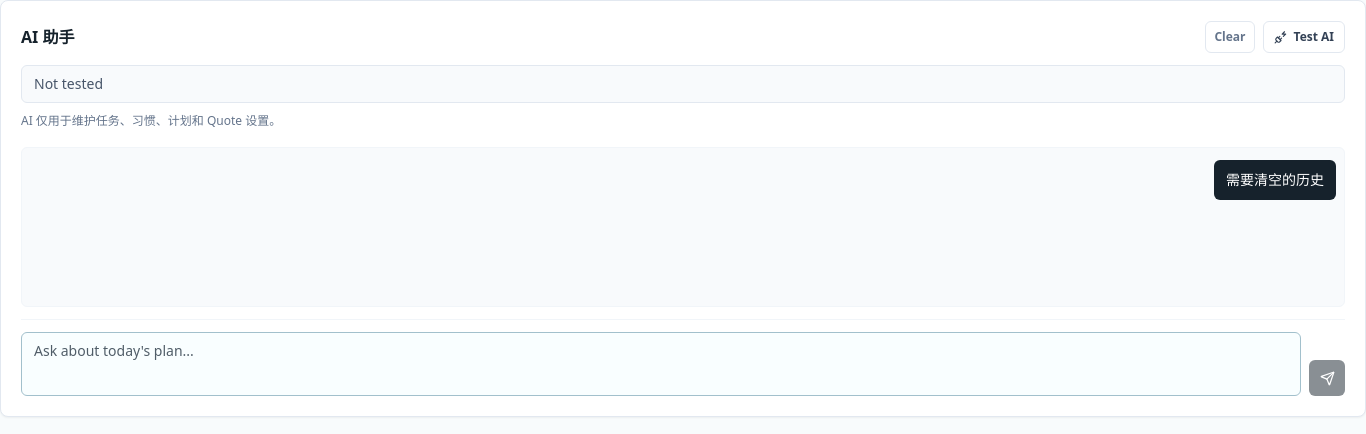
it: AiAssistantPanel › clears saved chat history from the assistant panel
Expected: the text "需要清空的历史" is shown, x1=1226 y1=168 x2=1324 y2=192
Click the button with aria-label "Clear chat history": (1230, 37) x1=1206 y1=21 x2=1255 y2=53
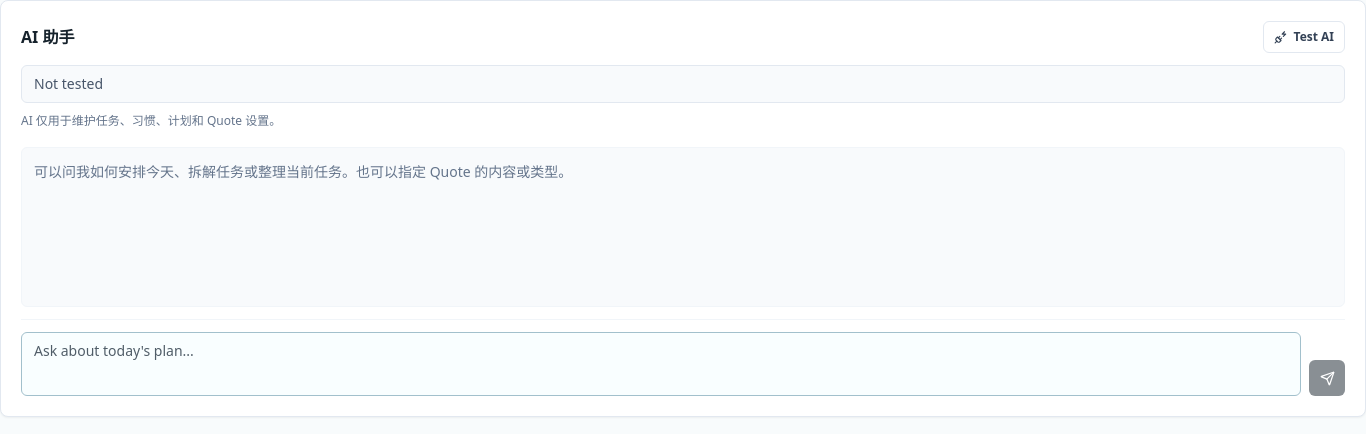
Result: the text "需要清空的历史" is gone
Result: the text "可以问我如何安排今天、拆解任务或整理当前任务。也可以指定 Quote 的内容或类型。" is shown at x1=34 y1=162 x2=572 y2=181
